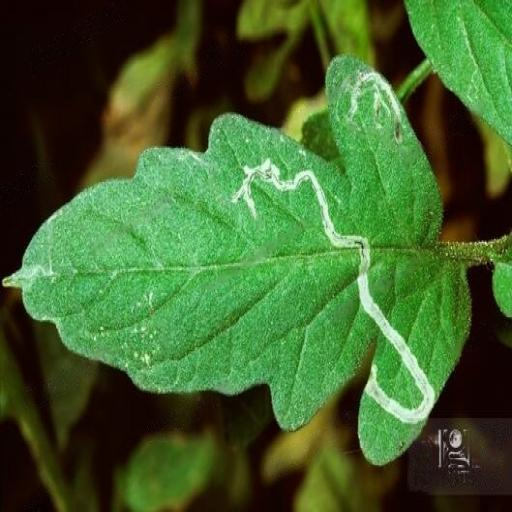Leaf_Miner: (0, 52, 472, 469)
